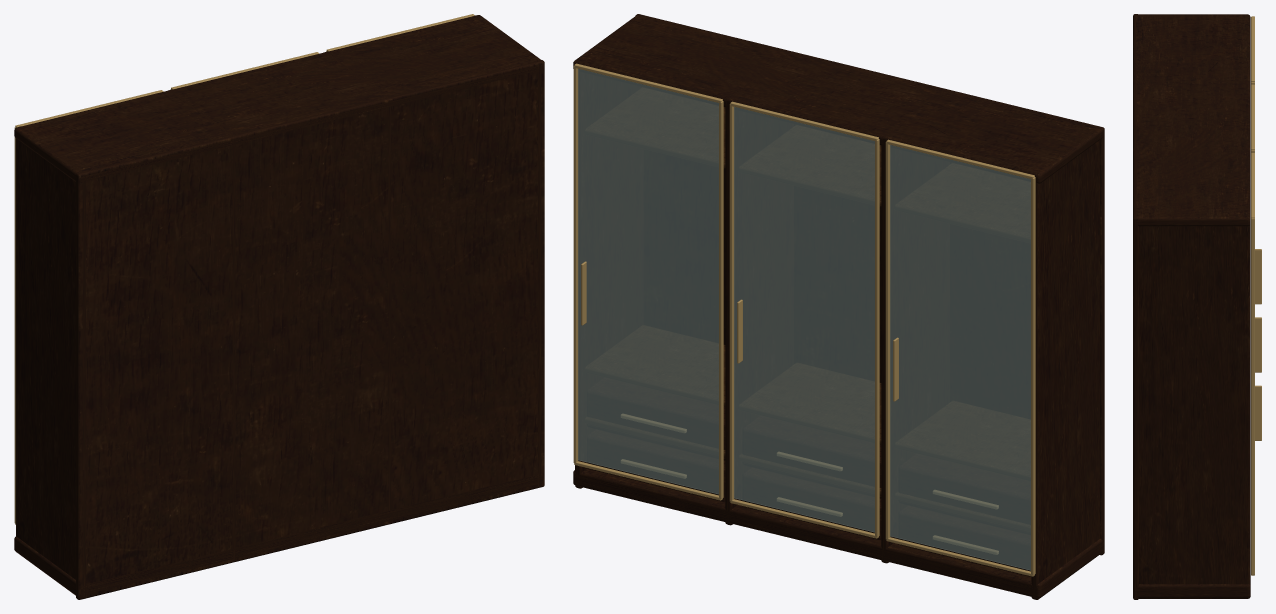
Rendered from luxury-smoked-wardrobe.glb.
3 renders of one model, left to right at view 1: azimuth 30°, elevation 25°; view 2: azimuth 150°, elevation 25°; view 3: azimuth 270°, elevation 25°, orthographic. The views are drawn at different scales.
Visible parts, largest first — view 1: walnut_0, bronze_10; view 2: walnut_0, glass_43, glass_29, glass_15, oak_7, bronze_10; view 3: walnut_0, bronze_10.
Part boxes in pixels (box(x1,y1,x2,y2)): walnut_0: box(14, 15, 544, 599); bronze_10: box(14, 14, 474, 524); walnut_0: box(573, 14, 1104, 599); glass_43: box(578, 69, 718, 494); glass_29: box(734, 107, 874, 532); glass_15: box(890, 145, 1030, 570); oak_7: box(585, 87, 1030, 531); bronze_10: box(573, 63, 1035, 576); walnut_0: box(1133, 14, 1250, 599); bronze_10: box(1251, 16, 1261, 575).
Size of the model in its own units: 2.8 by 2.44 by 0.7453.
Materials: 4 (2 with a texture image).
